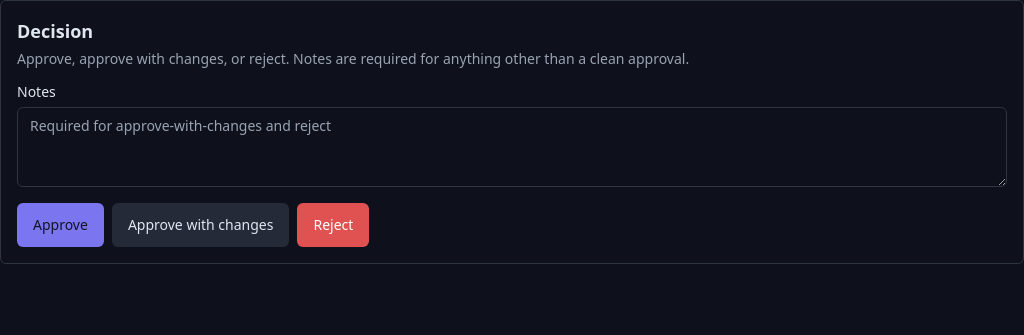
it: VideoApprovalGate › requires notes for rejected
Step 1. Click the button "Reject" → (333, 225), box [297, 203, 369, 247]
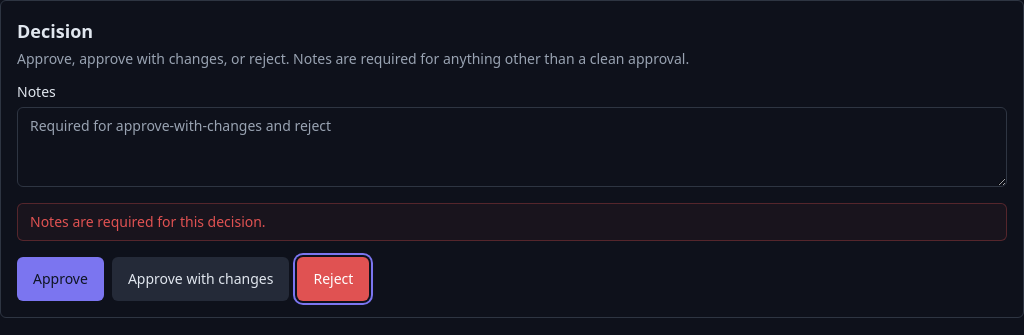
Now the message "Notes are required for this decision." is shown, box [17, 203, 1007, 241]
